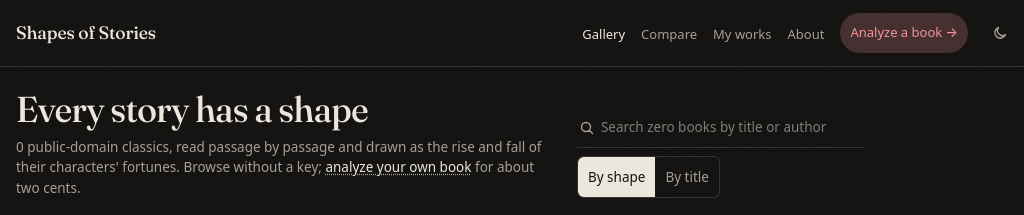
Scenario: each page names itself in the tab's title, and moving to another page moves focus to it
expect the heading "Every story has a shape" is shown: met, box [16,87,368,131]
Click the link "My works".
click(742, 34)  # box [713,24,772,42]
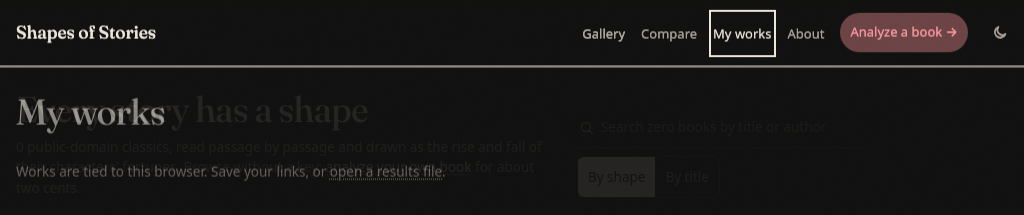
expect the heading "My works" is shown: met, box [16,87,165,131]
